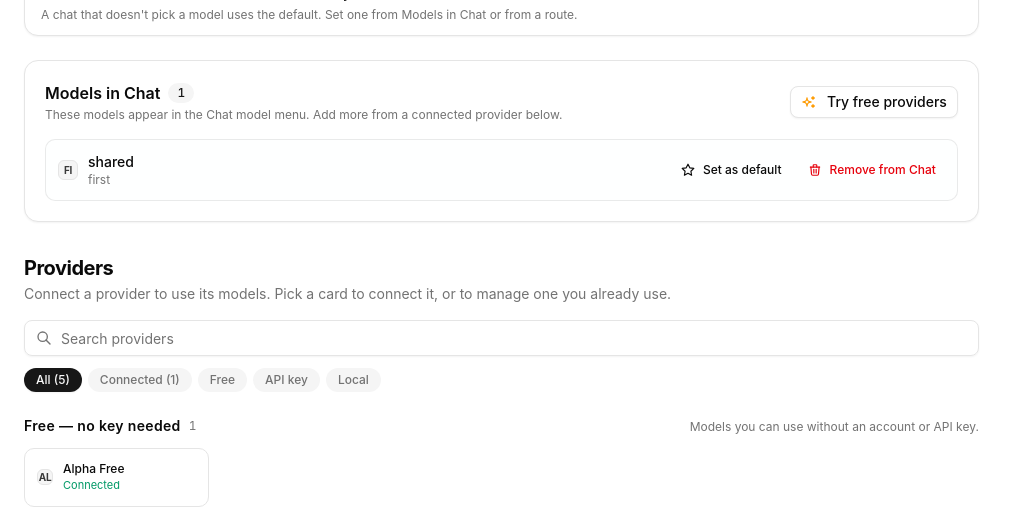
ModelsWorkspace › providers the extension serves › refreshes a ready keyless provider's models, and offers no sign-in
The width and height of the screenshot is (1024, 522).
Click the button with aria-label "Manage Alpha Free" at (116, 477), box [24,448,209,506]
(page scrolled)
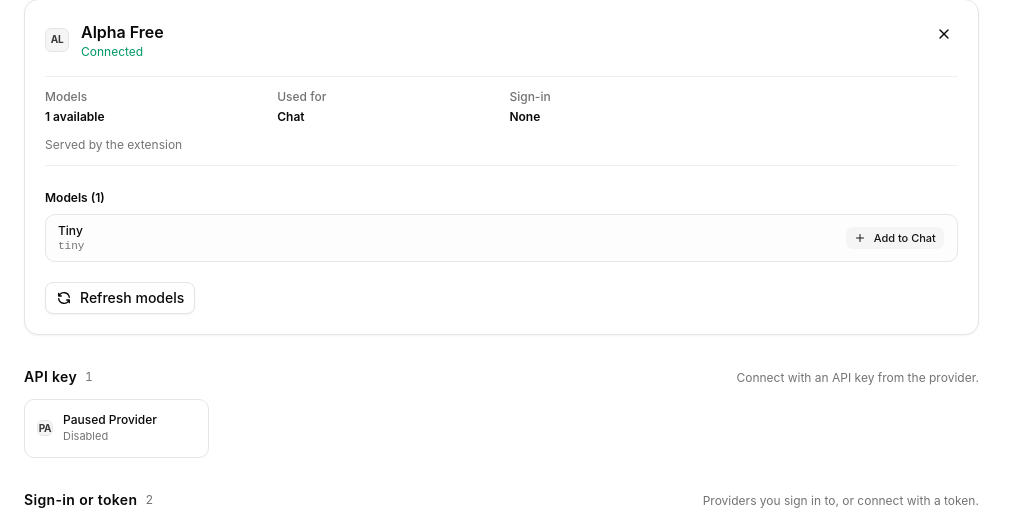
Result: the button "Refresh models" is shown at [45,282,195,314]
Result: the button "Add to Chat" is shown at [845,226,945,250]
